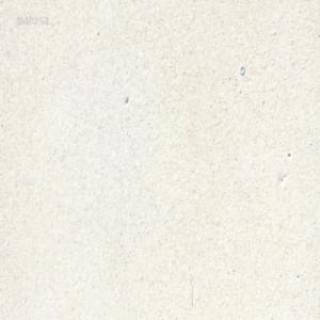Washertrack_idkeyframe: (239, 64, 245, 76)
